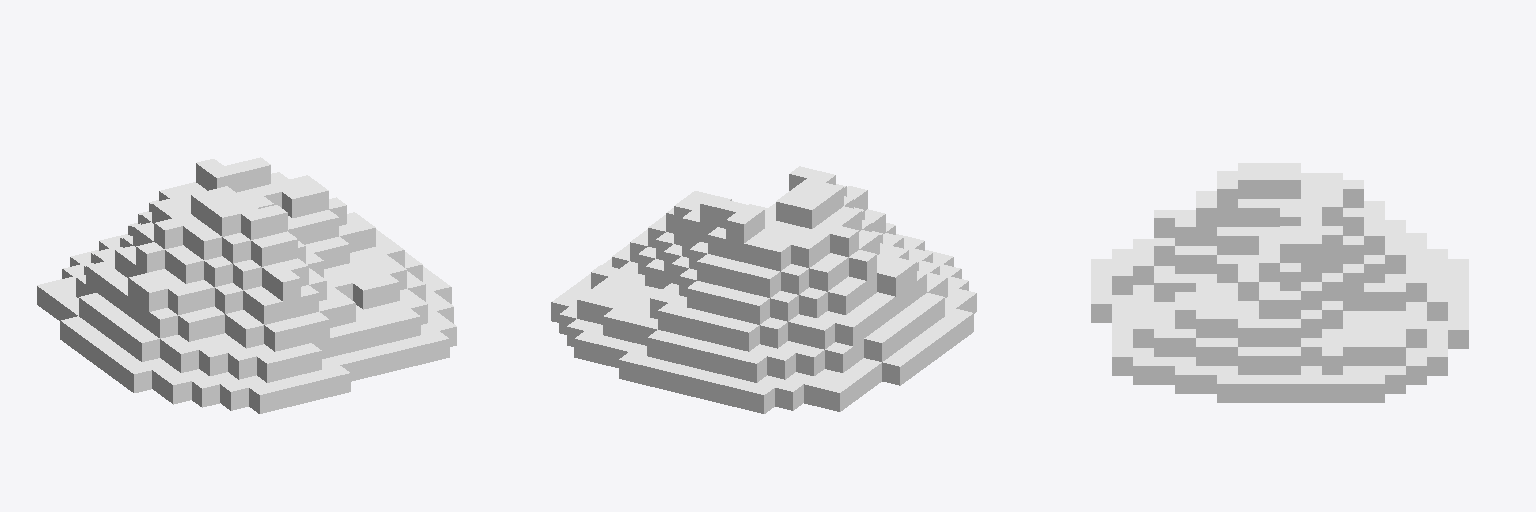
Rendered from hill03.obj.
3 views of the same model, side by side, from view 1: azimuth 30°, elevation 25°; view 2: azimuth 150°, elevation 25°; view 3: azimuth 270°, elevation 25° (orthographic).
Bounding box in the file's own units: 18 × 7 × 18.